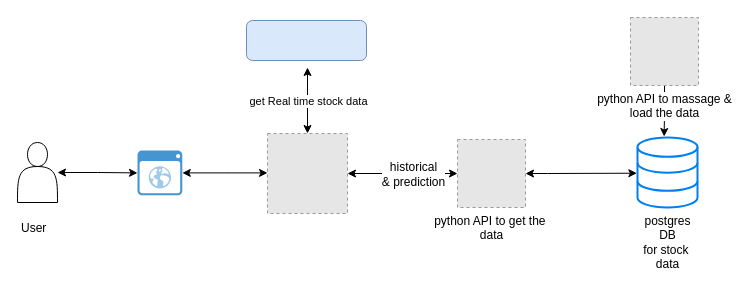
Image size: 749x290. Some labels were removed from this diagram. Grey dashed boxes stand in for pictures. The centre of each missing label's shape, as x and y in pixels:
"Stock Data/News API" belongs at point 306,40.
"Web UI" belongs at point 159,172.
